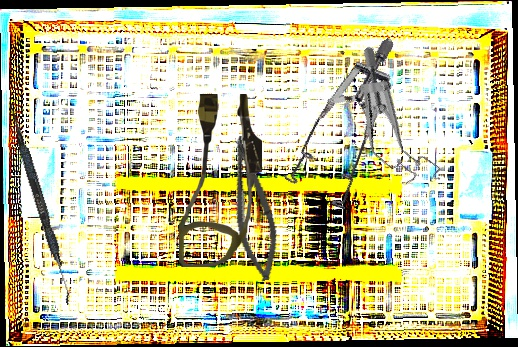Cannula: (179, 94, 262, 267)
Micro Scissor: (215, 132, 289, 285)
Spatula Surgical: (2, 102, 79, 306)
Speculum: (250, 37, 454, 227), (315, 44, 477, 200)
